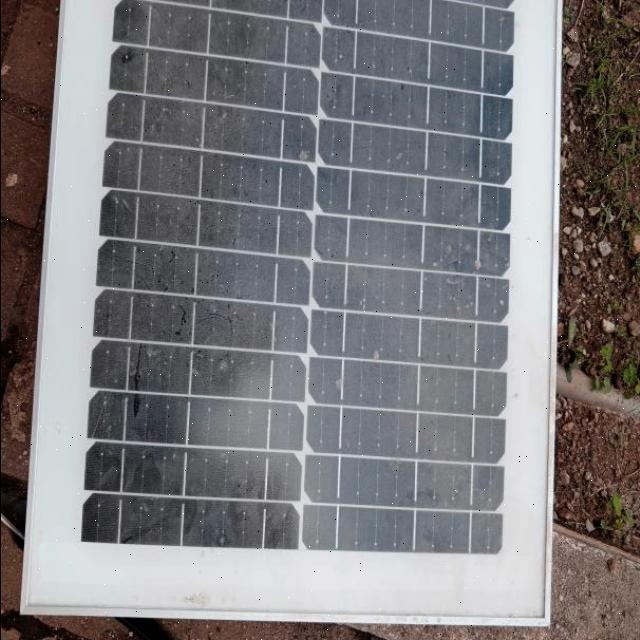Surface Contaminant: (68, 2, 527, 568)
